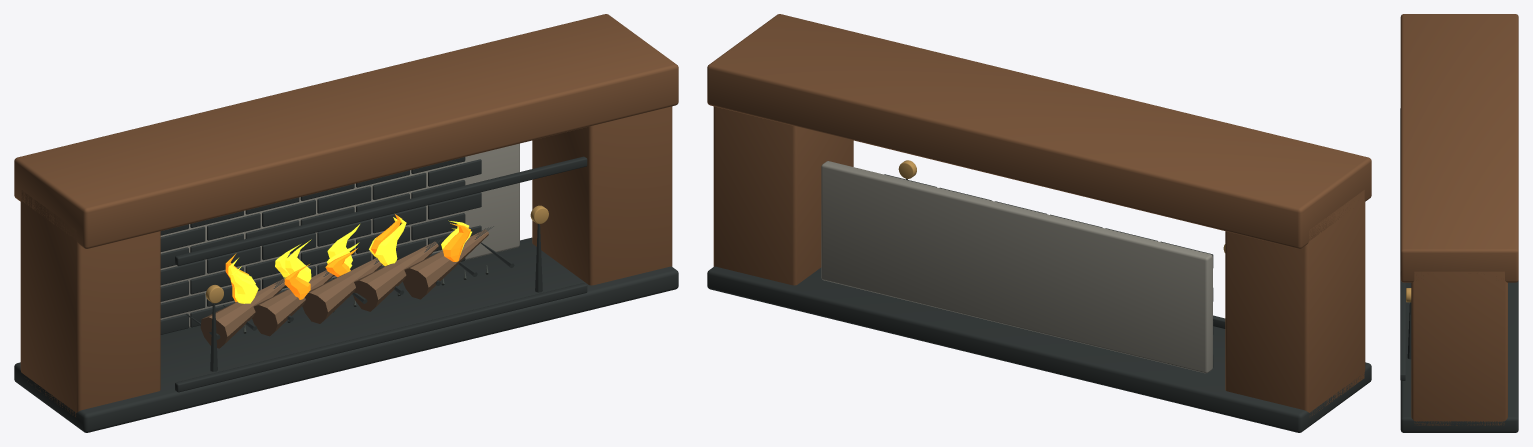
The model's file is linear-fireplace.glb.
3 views of the same model, side by side, from view 1: azimuth 30°, elevation 25°; view 2: azimuth 150°, elevation 25°; view 3: azimuth 270°, elevation 25° (orthographic). The views are drawn at different scales.
Parts seen in each view (by area): view 1: linear-fireplace; view 2: linear-fireplace; view 3: linear-fireplace.
Boxes of the visible parts, x1=… form: linear-fireplace: x1=14, y1=14, x2=678, y2=432; linear-fireplace: x1=707, y1=14, x2=1371, y2=432; linear-fireplace: x1=1400, y1=14, x2=1518, y2=432.
Size of the model in its own units: 1.8 by 0.65 by 0.38.
